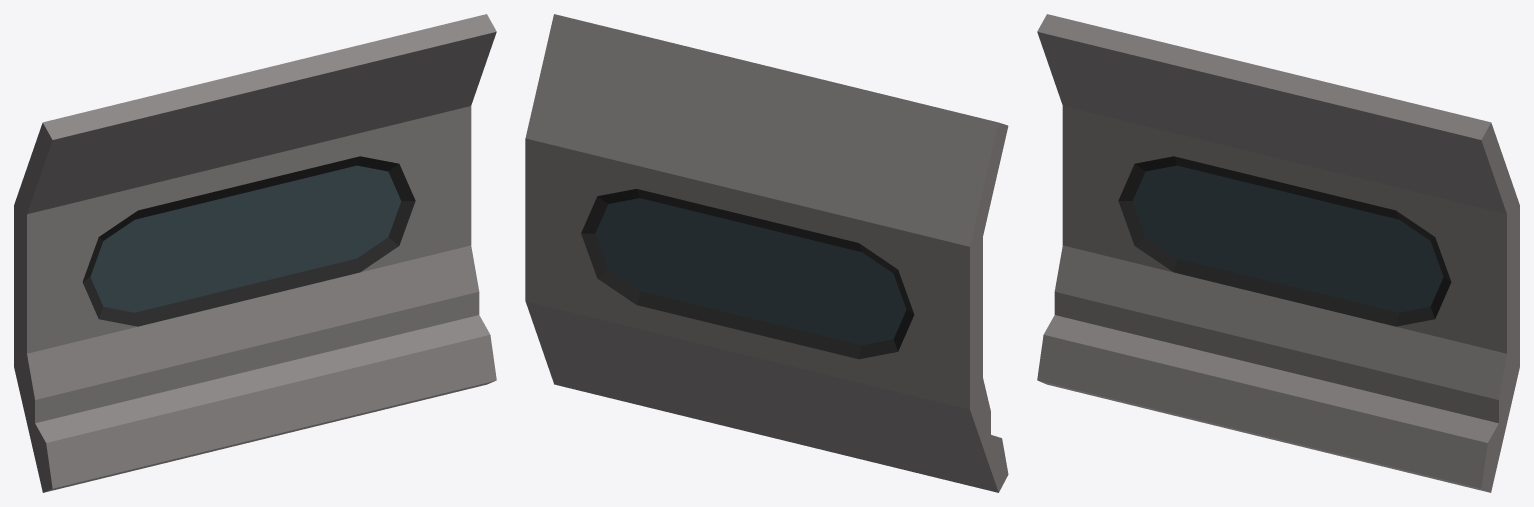
File: scifi_scifi-window-corridor.fbx
3 views of the same model, side by side, from view 1: azimuth 30°, elevation 25°; view 2: azimuth 150°, elevation 25°; view 3: azimuth 330°, elevation 25° (orthographic).
Visible parts, largest first — view 1: scifi_scifi_window_corridor; view 2: scifi_scifi_window_corridor; view 3: scifi_scifi_window_corridor.
Part boxes in pixels (left/top/right/bottom): scifi_scifi_window_corridor: left=14, top=14, right=496, bottom=492; scifi_scifi_window_corridor: left=525, top=14, right=1008, bottom=492; scifi_scifi_window_corridor: left=1037, top=14, right=1519, bottom=492.
Bounding box in the file's own units: 200 × 159 × 30.
